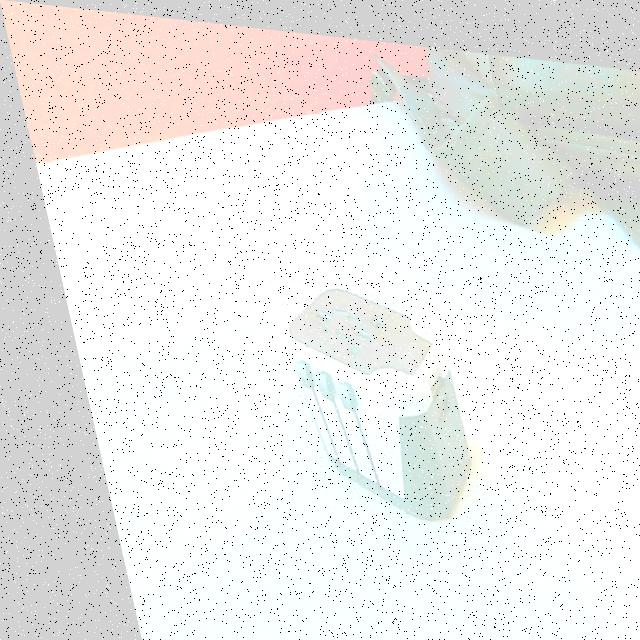adapter: (257, 270, 464, 518)
